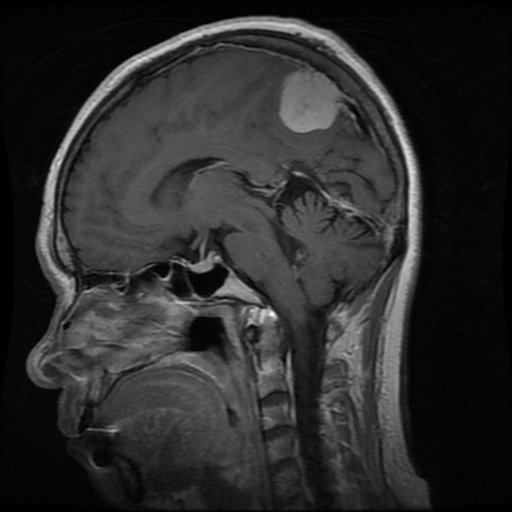meningioma: (280, 70, 341, 133)
